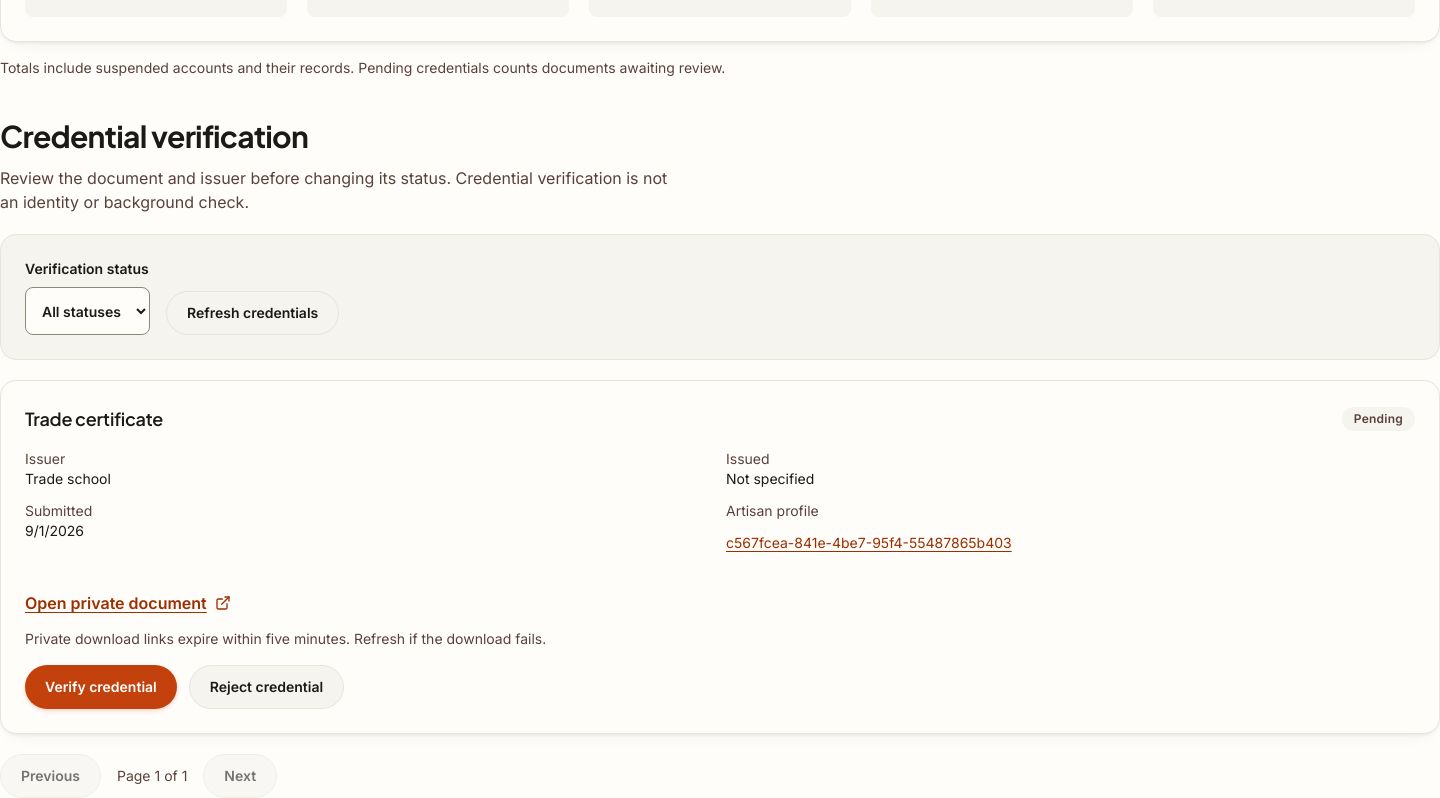
Test: supports correction from PENDING with Reject credential
(page scrolled)
Expected: the heading "Trade certificate" is shown, [25,405,163,433]
Click the button "Reject credential" at (266, 687), box [189,665,344,709]
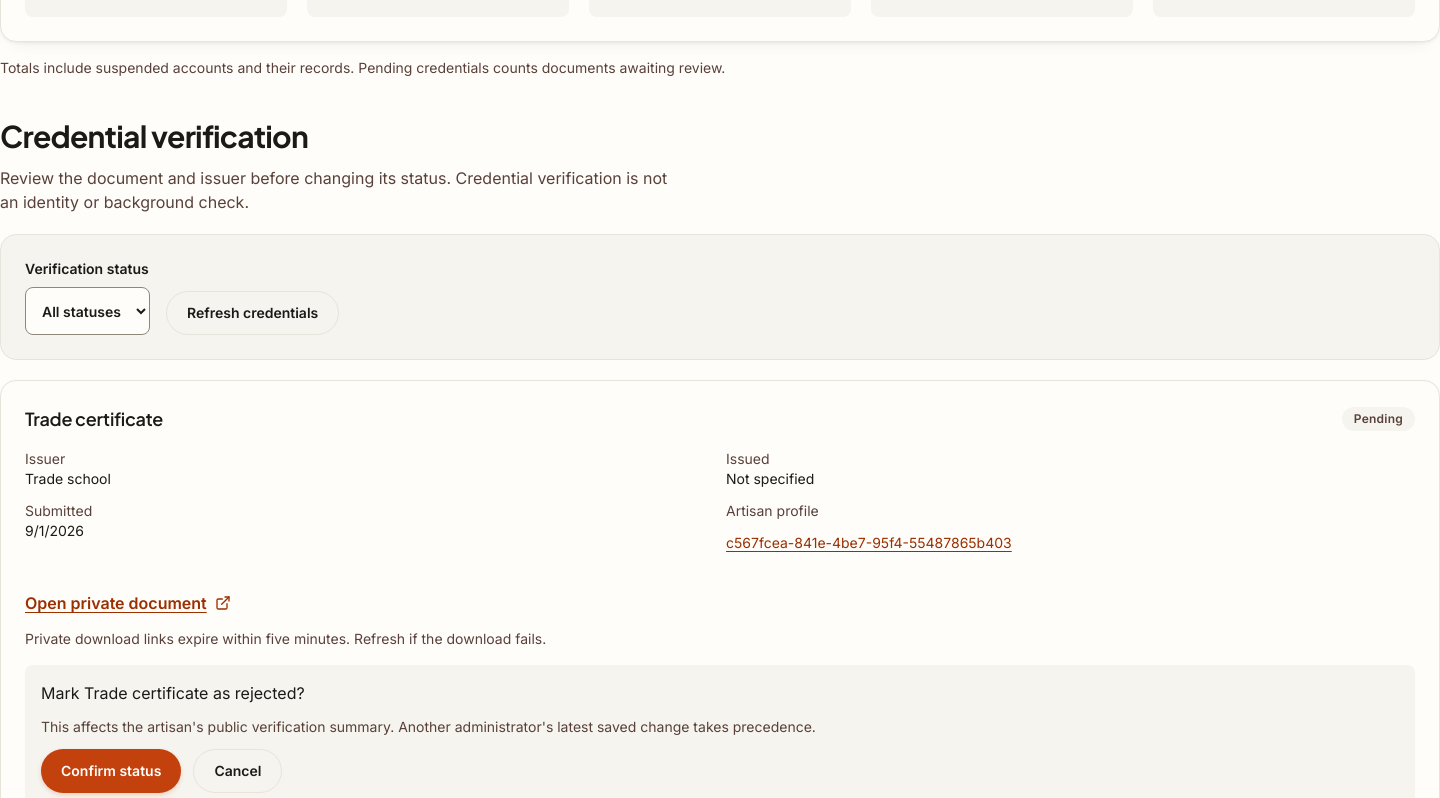
Click the button "Confirm status" at (111, 771), box [41,749,181,793]
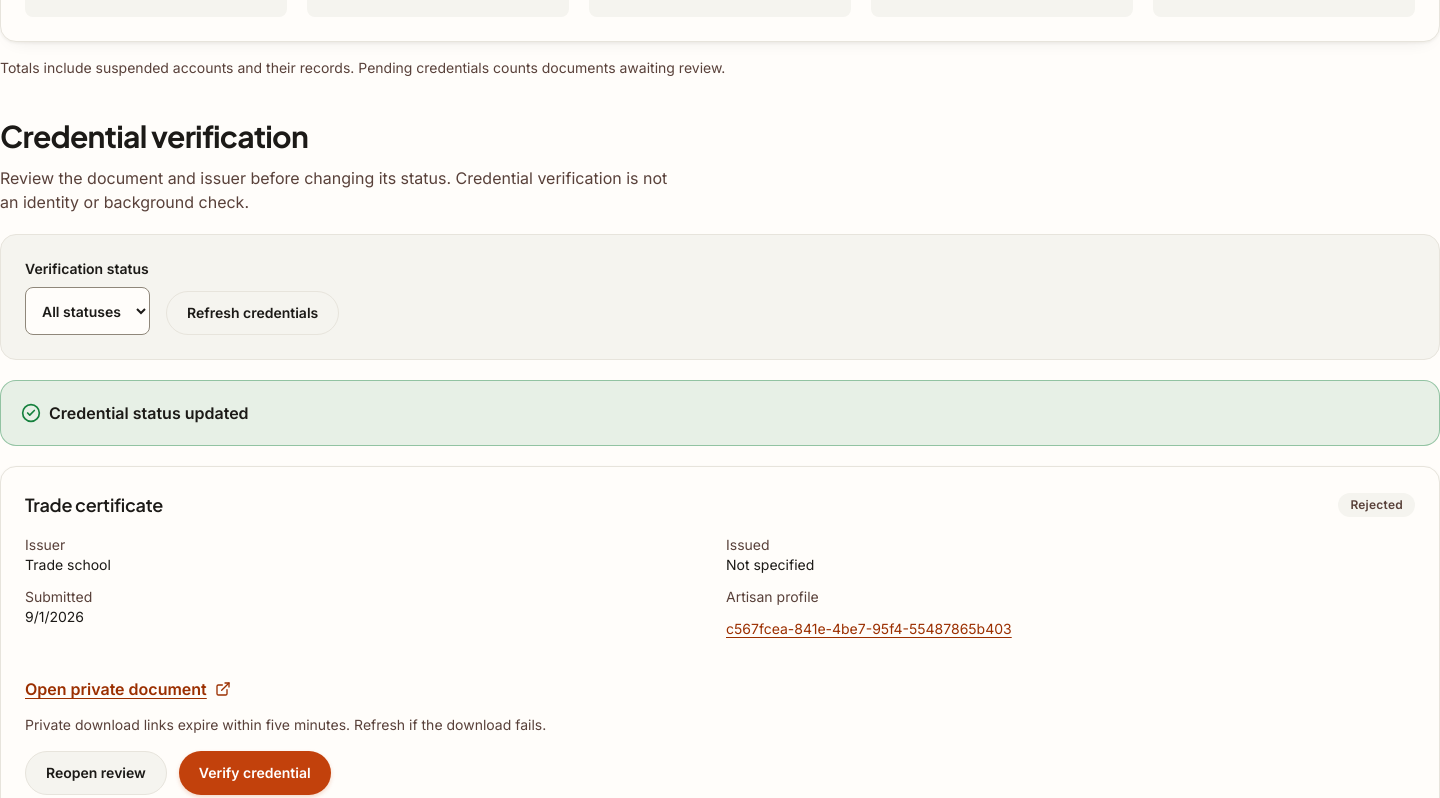
Expected: the text "Credential status updated" is shown, [21,403,249,423]
